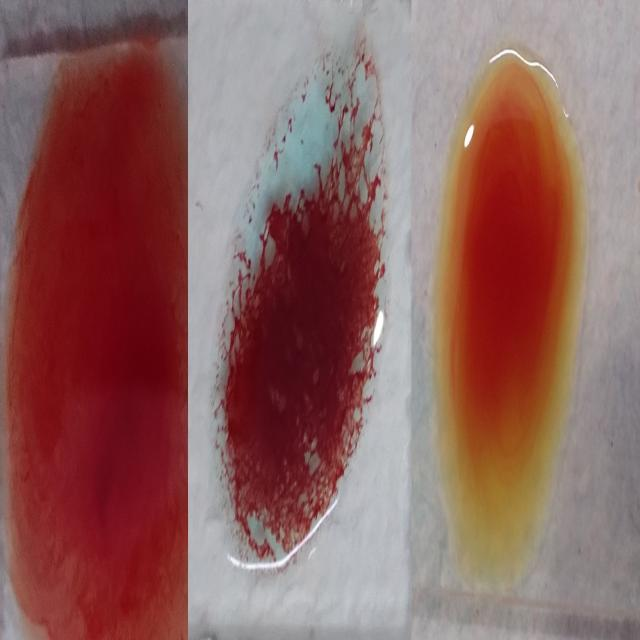A: (217, 26, 389, 572)
